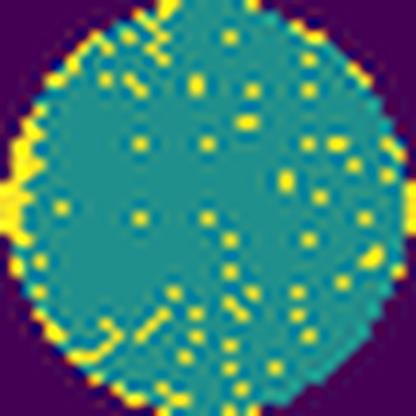Edge-Loc: (0, 99, 58, 249)
